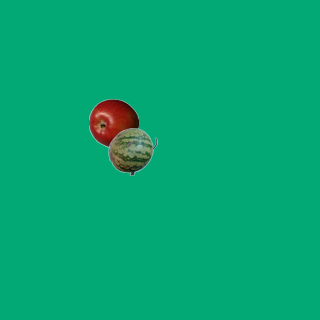Apple Braeburn: (88, 98, 138, 148)
Watermelon: (107, 126, 157, 176)
